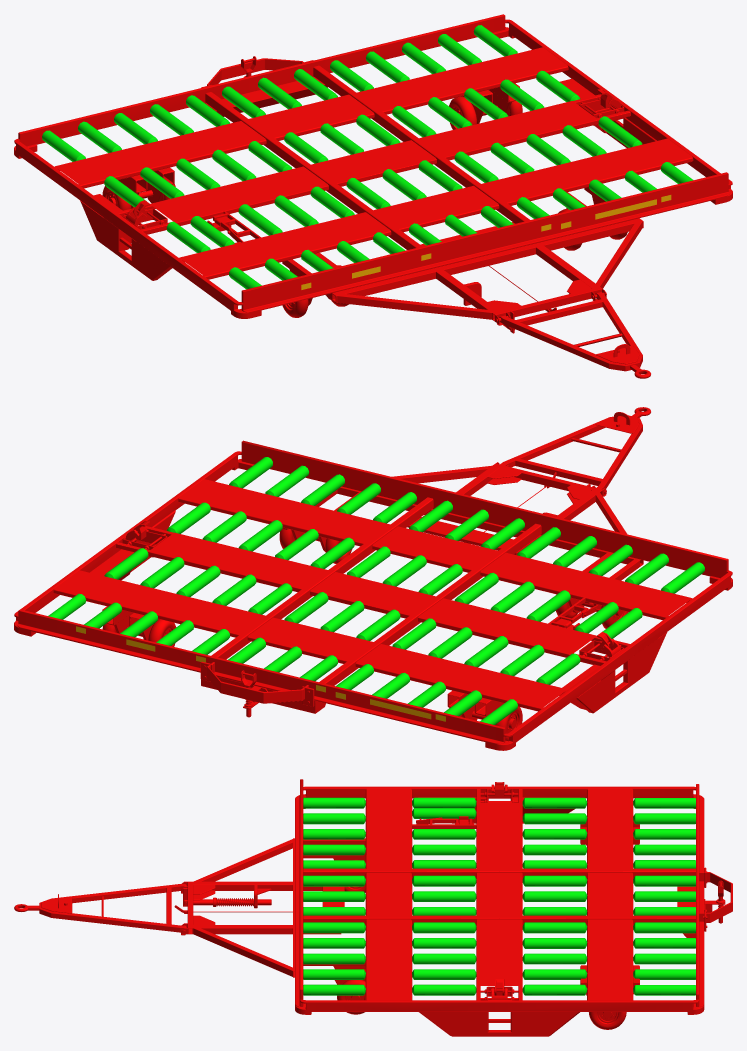
The model's file is SM_Dolly_01 1.fbx.
3 views of the same model, one above another, from view 1: azimuth 30°, elevation 25°; view 2: azimuth 150°, elevation 25°; view 3: azimuth 270°, elevation 25° (orthographic). The views are drawn at different scales.
Visible parts, largest first — view 1: body_LOD0, cilynders_LOD0, direction_LOD0, attachment_LOD0, backwheels_LOD0, frontwheels_LOD0; view 2: body_LOD0, cilynders_LOD0, direction_LOD0, attachment_LOD0, backwheels_LOD0, frontwheels_LOD0; view 3: body_LOD0, cilynders_LOD0, direction_LOD0, attachment_LOD0, backwheels_LOD0, frontwheels_LOD0.
Part boxes in pixels (x1,y1,x2,y2): body_LOD0: (14, 14, 732, 318); cilynders_LOD0: (42, 25, 693, 289); direction_LOD0: (282, 187, 643, 333); attachment_LOD0: (499, 292, 650, 378); backwheels_LOD0: (102, 96, 522, 210); frontwheels_LOD0: (282, 209, 627, 317); body_LOD0: (14, 440, 732, 750); cilynders_LOD0: (48, 457, 704, 724); direction_LOD0: (282, 462, 643, 603); attachment_LOD0: (500, 407, 650, 489); backwheels_LOD0: (102, 619, 522, 741); frontwheels_LOD0: (279, 529, 628, 628); body_LOD0: (295, 779, 732, 1036); cilynders_LOD0: (303, 797, 695, 995); direction_LOD0: (181, 838, 365, 977); attachment_LOD0: (14, 884, 186, 932); backwheels_LOD0: (589, 1012, 626, 1029); frontwheels_LOD0: (337, 859, 365, 1014).
Size of what is drawn, in the model's own units: 41.49 by 5.69 by 58.5.
